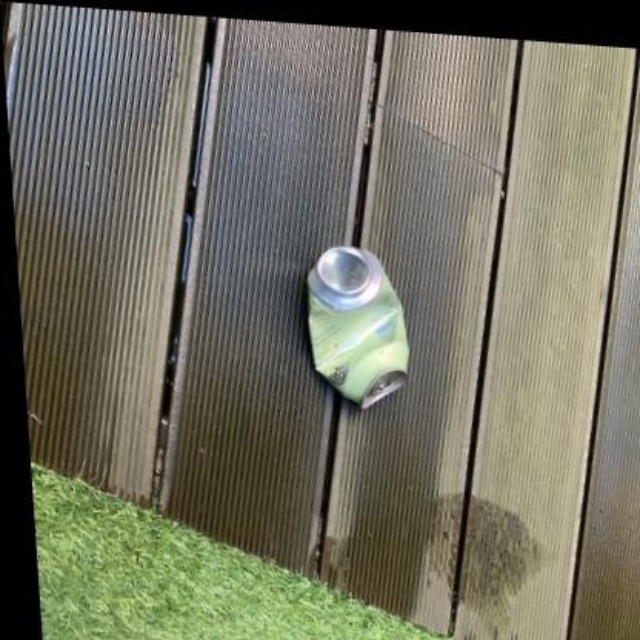trash: (308, 246, 408, 408)
